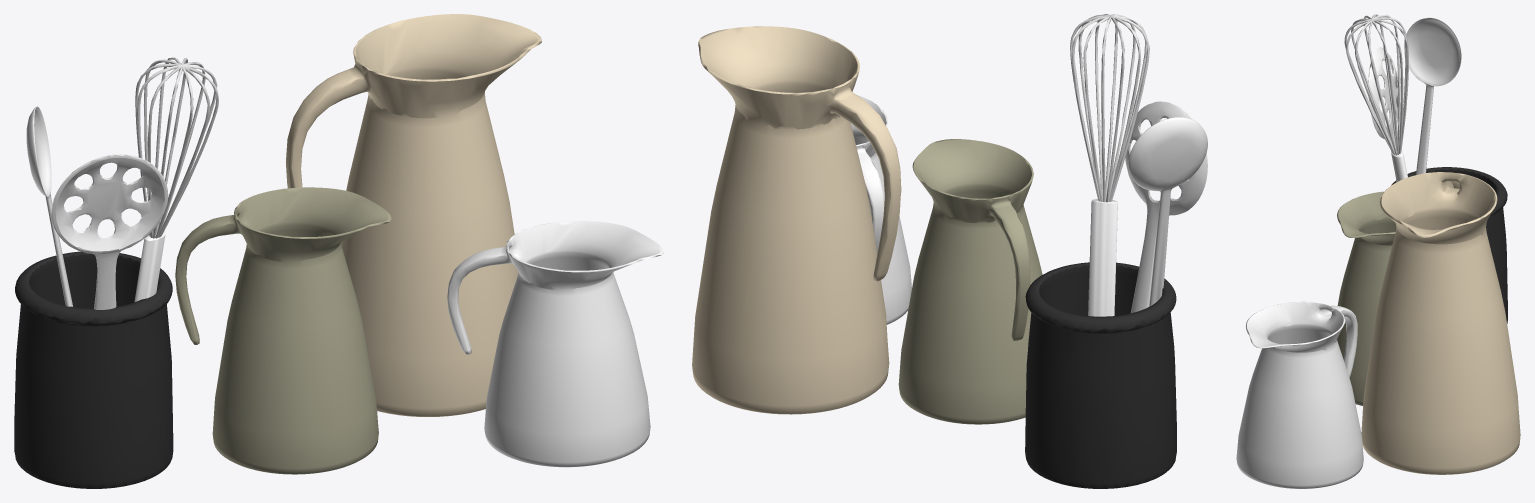
File: acce4.glb
3 renders of one model, left to right at view 1: azimuth 30°, elevation 25°; view 2: azimuth 150°, elevation 25°; view 3: azimuth 270°, elevation 25°, orthographic. The views are drawn at different scales.
Parts seen in each view (by area): view 1: Obj3d66-17951767-310-448, Obj3d66-17951767-307-430, Obj3d66-17951767-302-390, Obj3d66-17951767-304-313, Obj3d66-17951767-306-510, Obj3d66-17951767-303-961, Obj3d66-17951767-308-960; view 2: Obj3d66-17951767-310-448, Obj3d66-17951767-307-430, Obj3d66-17951767-304-313, Obj3d66-17951767-303-961, Obj3d66-17951767-308-960, Obj3d66-17951767-306-510, Obj3d66-17951767-302-390; view 3: Obj3d66-17951767-310-448, Obj3d66-17951767-302-390, Obj3d66-17951767-307-430, Obj3d66-17951767-303-961, Obj3d66-17951767-308-960, Obj3d66-17951767-304-313, Obj3d66-17951767-306-510.
Part boxes in pixels (bbox=[...]): Obj3d66-17951767-310-448: bbox=[286, 14, 541, 416]; Obj3d66-17951767-307-430: bbox=[175, 187, 391, 474]; Obj3d66-17951767-302-390: bbox=[447, 221, 663, 467]; Obj3d66-17951767-304-313: bbox=[14, 251, 173, 488]; Obj3d66-17951767-306-510: bbox=[51, 154, 168, 309]; Obj3d66-17951767-303-961: bbox=[134, 57, 218, 302]; Obj3d66-17951767-308-960: bbox=[26, 106, 72, 306]; Obj3d66-17951767-310-448: bbox=[692, 26, 901, 414]; Obj3d66-17951767-307-430: bbox=[898, 139, 1042, 424]; Obj3d66-17951767-304-313: bbox=[1025, 262, 1176, 488]; Obj3d66-17951767-303-961: bbox=[1070, 14, 1149, 316]; Obj3d66-17951767-308-960: bbox=[1128, 117, 1207, 306]; Obj3d66-17951767-306-510: bbox=[1125, 101, 1207, 313]; Obj3d66-17951767-302-390: bbox=[850, 95, 911, 324]; Obj3d66-17951767-310-448: bbox=[1361, 172, 1520, 474]; Obj3d66-17951767-302-390: bbox=[1236, 301, 1363, 488]; Obj3d66-17951767-307-430: bbox=[1337, 191, 1396, 405]; Obj3d66-17951767-303-961: bbox=[1344, 14, 1408, 181]; Obj3d66-17951767-308-960: bbox=[1404, 17, 1461, 174]; Obj3d66-17951767-304-313: bbox=[1391, 167, 1507, 323]; Obj3d66-17951767-306-510: bbox=[1368, 47, 1398, 181].
Bounding box in the file's own units: 0.4331 × 0.3249 × 0.2609.
